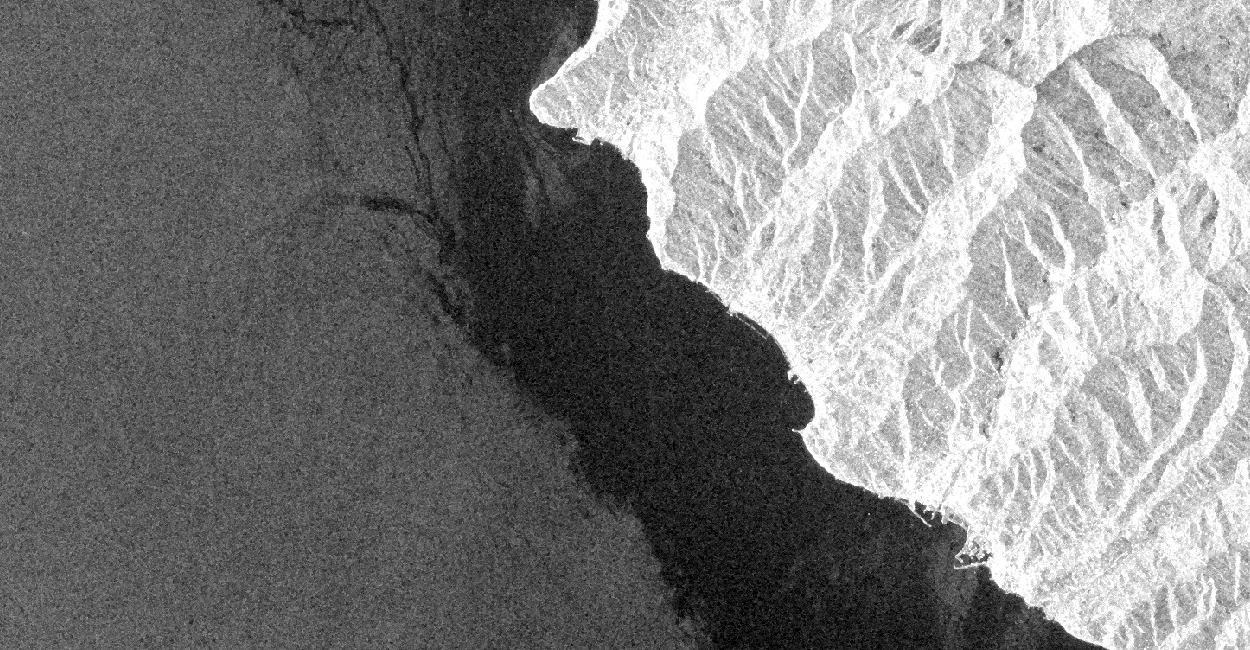Look-alike: (358, 0, 1022, 650)
